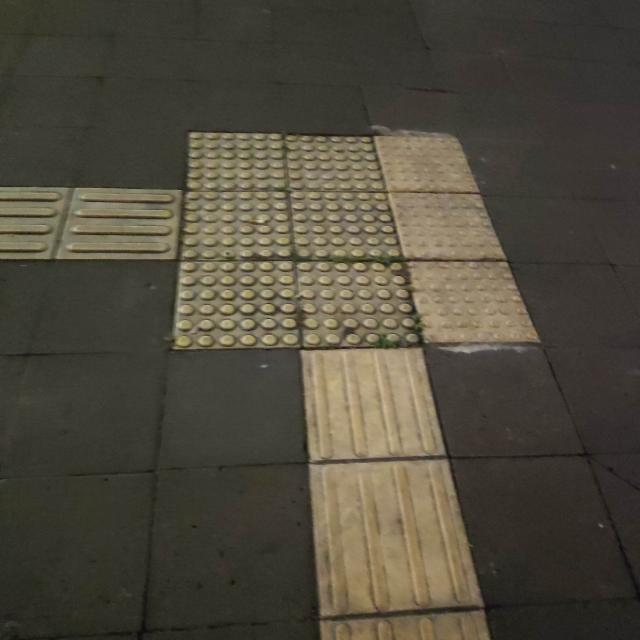kiri: (0, 147, 466, 478)
